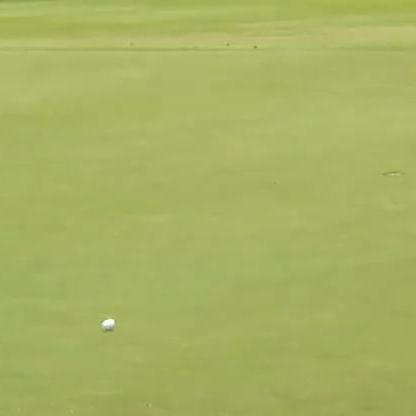golfball: (100, 315, 114, 330)
